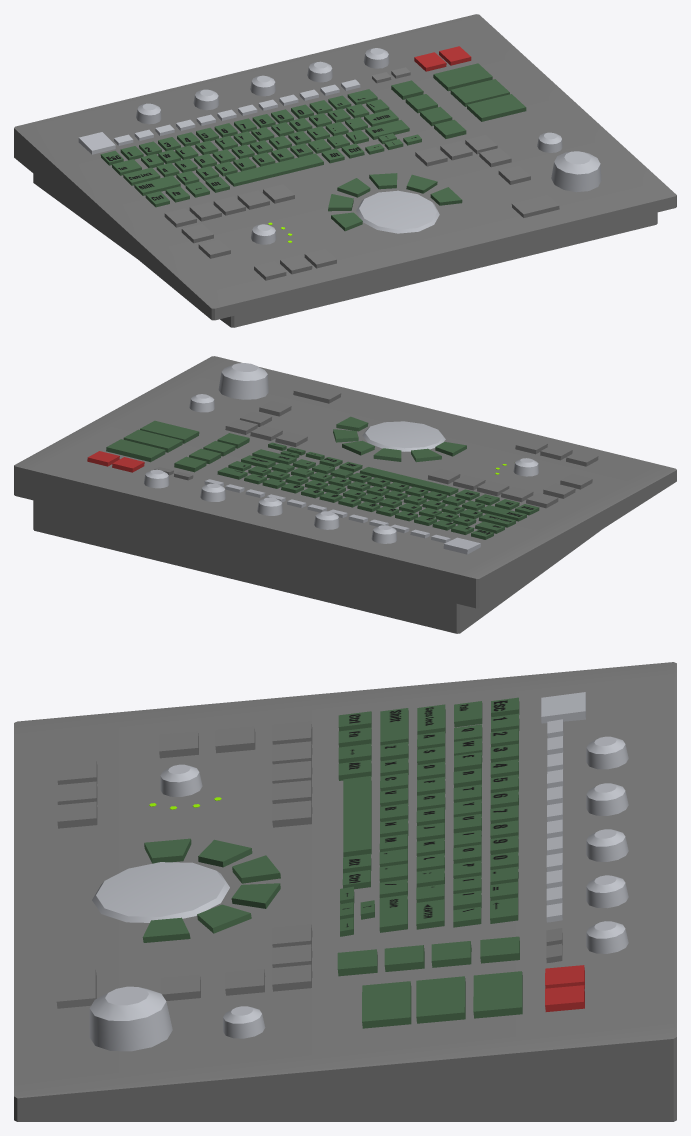
Rendered from Med.Keyboard.fbx.
The picture shows the model from 3 angles, top to bottom: view 1: azimuth 30°, elevation 25°; view 2: azimuth 150°, elevation 25°; view 3: azimuth 270°, elevation 25°; orthographic projection. The views are drawn at different scales.
Visible parts, largest first — view 1: Med.Keyboard; view 2: Med.Keyboard; view 3: Med.Keyboard.
Boxes of the visible parts, x1,y1,x2,y2 form: Med.Keyboard: [14, 14, 676, 327]; Med.Keyboard: [14, 356, 676, 633]; Med.Keyboard: [14, 662, 676, 1121].
Bounding box in the file's own units: 40.35 × 5.69 × 30.
